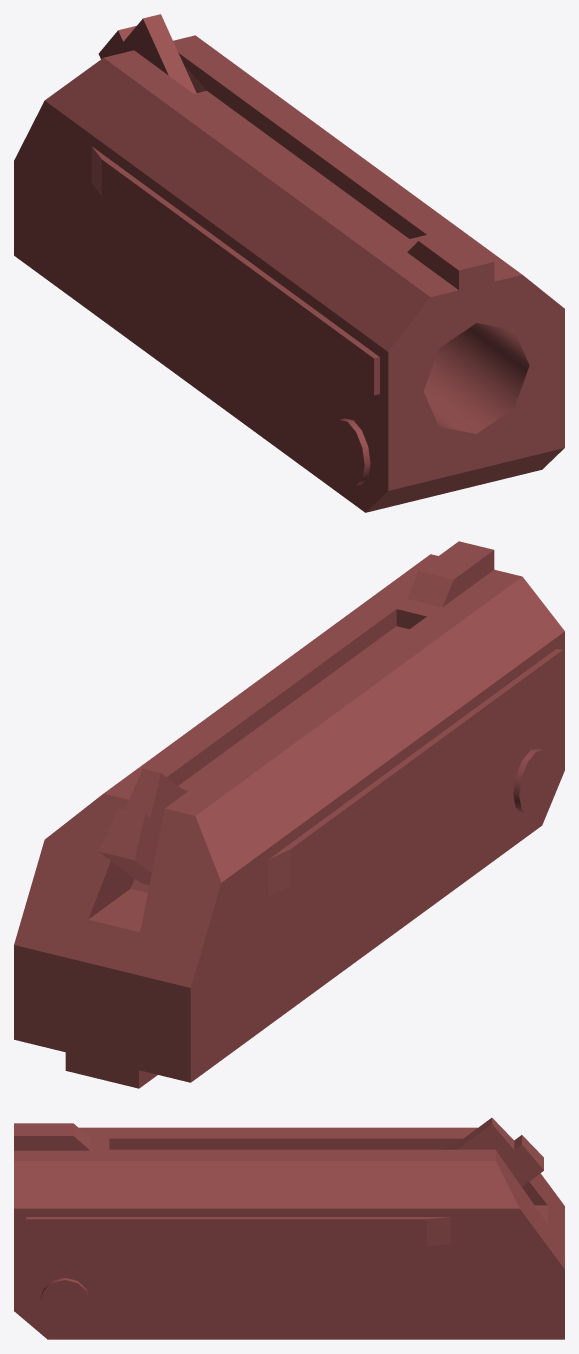
The model's file is WM0_Cannon_x1_LVL1.FBX.
3 renders of one model, top to bottom at view 1: azimuth 30°, elevation 25°; view 2: azimuth 150°, elevation 25°; view 3: azimuth 270°, elevation 25°, orthographic. The views are drawn at different scales.
Visible parts, largest first — view 1: WM0_Cannon_x1_LVL1; view 2: WM0_Cannon_x1_LVL1; view 3: WM0_Cannon_x1_LVL1.
Part boxes in pixels (box(x1,y1,x2,y2)): WM0_Cannon_x1_LVL1: box(14, 14, 564, 512); WM0_Cannon_x1_LVL1: box(14, 541, 564, 1088); WM0_Cannon_x1_LVL1: box(14, 1118, 564, 1339).
Size of the model in its own units: 8 by 11.05 by 27.5.
